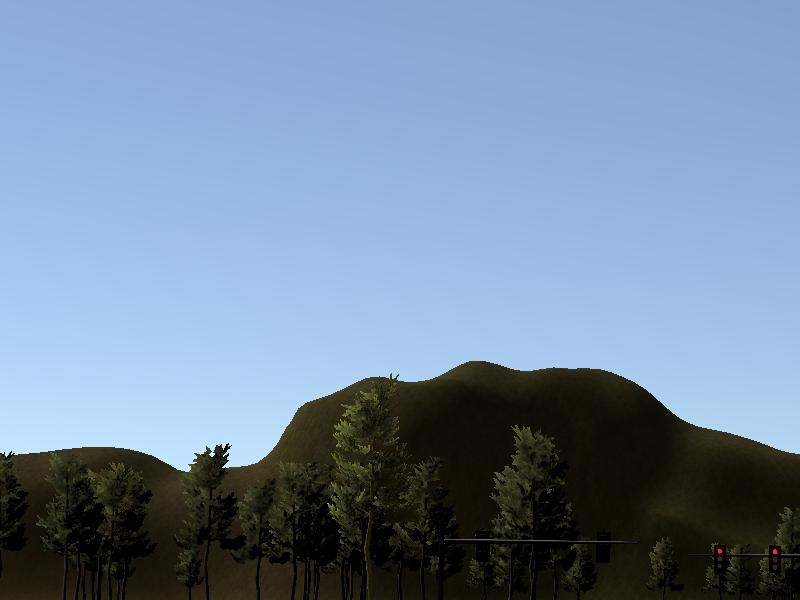RED: (706, 539, 736, 595), (761, 538, 789, 595)
